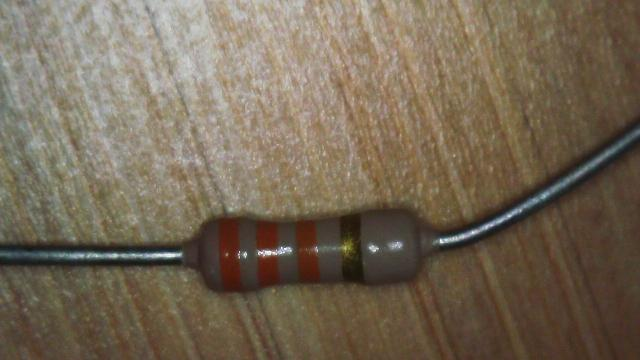gold: (340, 214, 362, 282)
orange: (220, 219, 242, 292), (257, 222, 278, 286), (298, 221, 318, 282)
resistor: (184, 182, 439, 313)
